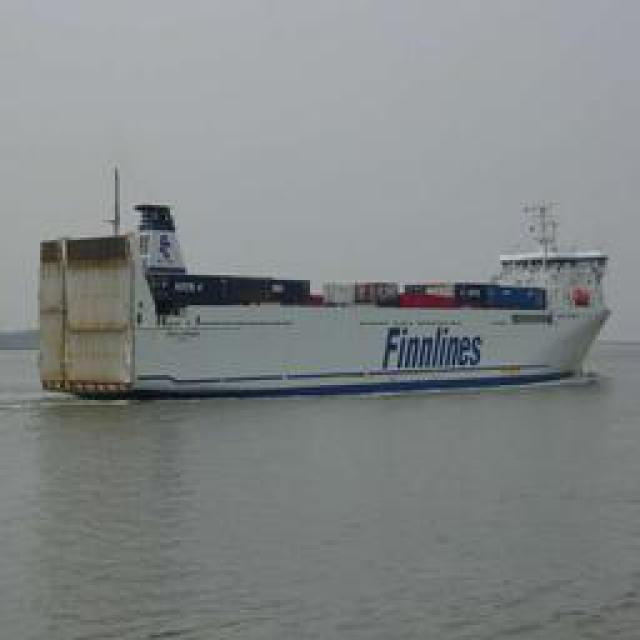Ship: (39, 197, 614, 395)
